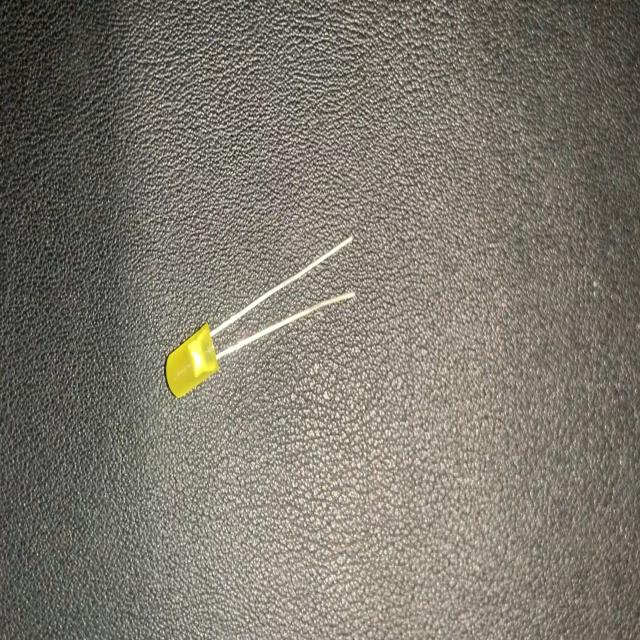LED: (158, 230, 358, 404)
